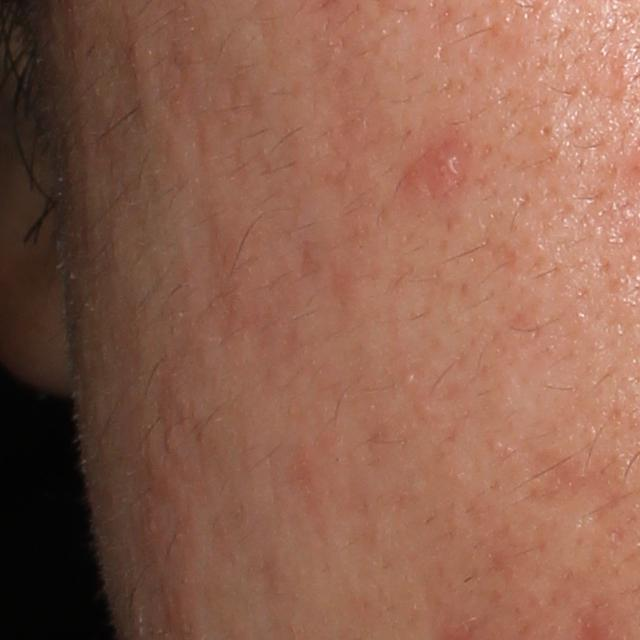atrophic_scar: (518, 447, 638, 514)
comedo: (534, 119, 558, 142)
papule: (403, 136, 471, 194)
